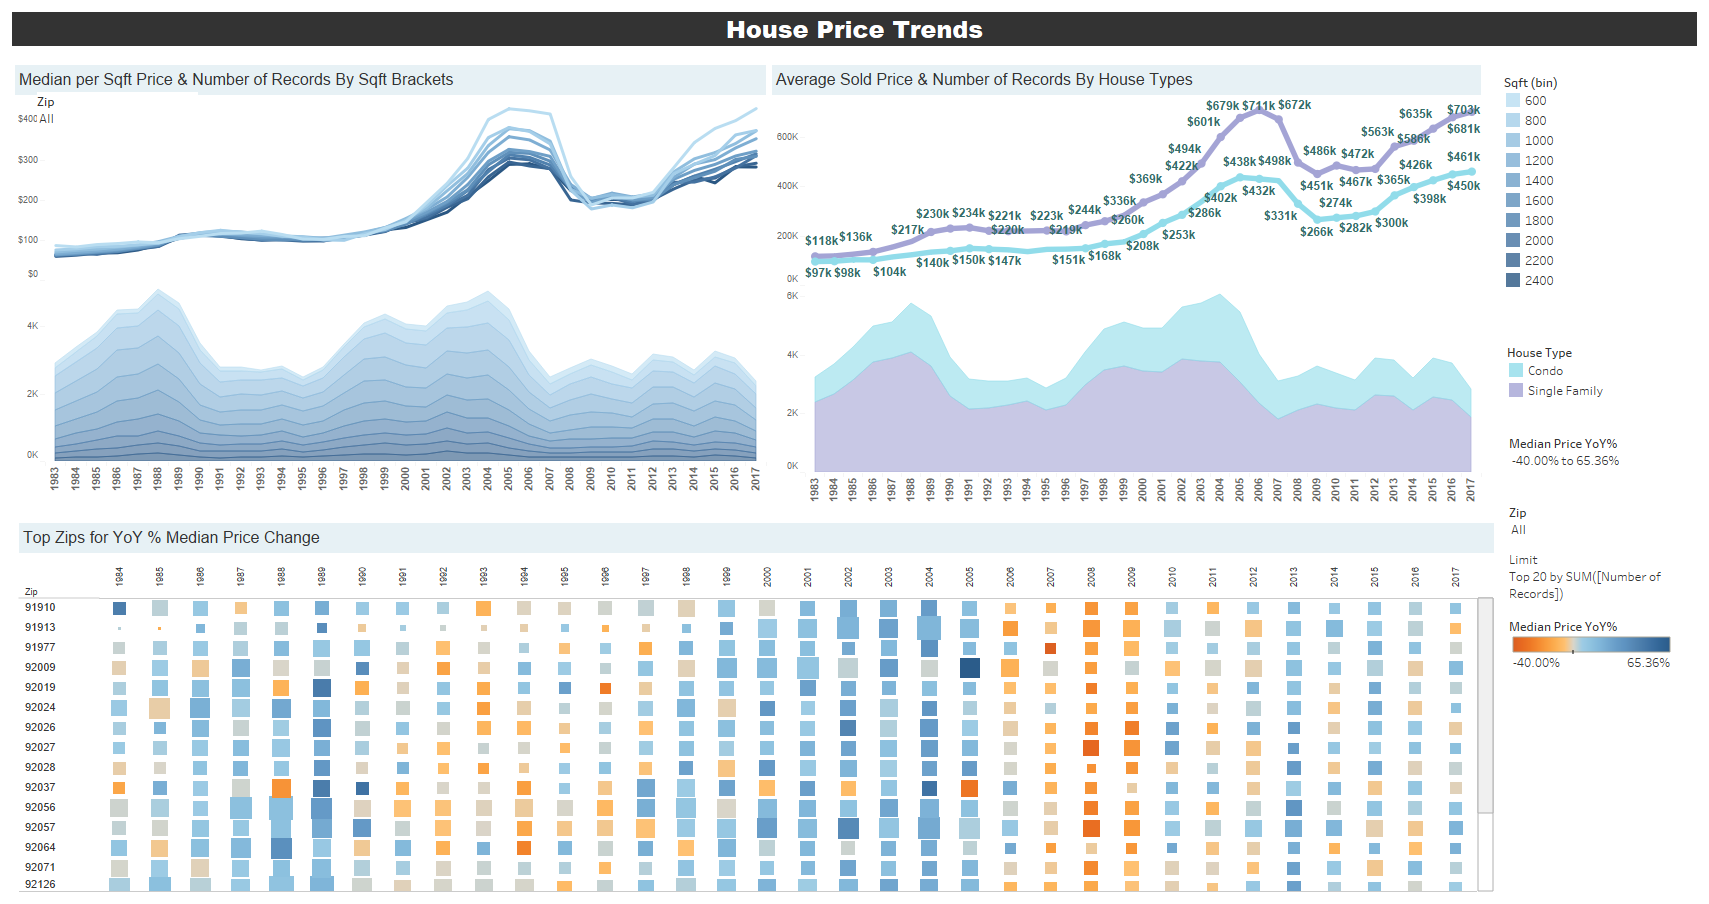

What the dashboard file says about the page in this screenshot:
{"tool":"tableau","page":{"name":"Dashboard 3","canvas":[1000,1000],"units":"permille","ordinal":1},"visuals":[{"type":"title","box":[4.7,8.8,990.6,46.5]},{"type":"worksheet","title":"stream_sqft","mark":"Area","rows":["sqft_price","Number of Records"],"cols":["date"],"box":[6.5,67.4,444.1,491.3]},{"type":"worksheet","title":"housetype","mark":"Line","rows":["sold_price","Number of Records"],"cols":["date"],"box":[449.4,67.4,419.3,504.1]},{"type":"filter","title":"housetype","param":"[federated.1k7wuoq0t5ub6q183kvkb0c32lxh].[none:zip:ok]","box":[876.8,67.4,96.3,105.7]},{"type":"legend","title":"stream_sqft","param":"[federated.1k7wuoq0t5ub6q183kvkb0c32lxh].[none:Sqft (bin):ok]","box":[877.4,140.5,79.7,278.8]},{"type":"legend","title":"housetype","param":"[federated.1k7wuoq0t5ub6q183kvkb0c32lxh].[House Type]","box":[877.4,415.8,82.8,89.4]},{"type":"legend","title":"heat_timeline","param":"[federated.1k7wuoq0t5ub6q183kvkb0c32lxh].[usr:Calculation1:qk]","box":[874.9,495.9,109.1,102.2]},{"type":"worksheet","title":"heat_timeline","mark":"Automatic","rows":["zip"],"cols":["date"],"box":[4.2,563.3,861.5,421.6]},{"type":"filter","title":"heat_timeline","param":"[federated.1k7wuoq0t5ub6q183kvkb0c32lxh].[sum:Number of Records:qk]","box":[876.8,583,101.2,84.8]},{"type":"filter","title":"heat_timeline","param":"[federated.1k7wuoq0t5ub6q183kvkb0c32lxh].[usr:Calculation1:qk]","box":[878,666.7,101.2,84.8]},{"type":"filter","title":"heat_timeline","param":"[federated.1k7wuoq0t5ub6q183kvkb0c32lxh].[none:zip:ok]","box":[879.2,756.1,101.2,177.7]},{"type":"filter","title":"housetype","param":"[federated.1k7wuoq0t5ub6q183kvkb0c32lxh].[yr:date:ok]","box":[881.7,936.1,98.7,59.2]}]}

Visuals, with their boxes on the dashboard's canvas, which has no fixed pixel size, in thousandths of its width and height (x1, y1, x2, y2). These are canvas units, not pixel positions in the 1709x904 screenshot, which may show the page scaled, cropped or inside an application window:
title: {"x1": 5, "y1": 9, "x2": 995, "y2": 55}
"stream_sqft" worksheet (Area marks): {"x1": 6, "y1": 67, "x2": 451, "y2": 559}
"housetype" worksheet (Line marks): {"x1": 449, "y1": 67, "x2": 869, "y2": 572}
"housetype" filter: {"x1": 877, "y1": 67, "x2": 973, "y2": 173}
"stream_sqft" legend: {"x1": 877, "y1": 140, "x2": 957, "y2": 419}
"housetype" legend: {"x1": 877, "y1": 416, "x2": 960, "y2": 505}
"heat_timeline" legend: {"x1": 875, "y1": 496, "x2": 984, "y2": 598}
"heat_timeline" worksheet: {"x1": 4, "y1": 563, "x2": 866, "y2": 985}
"heat_timeline" filter: {"x1": 877, "y1": 583, "x2": 978, "y2": 668}
"heat_timeline" filter: {"x1": 878, "y1": 667, "x2": 979, "y2": 752}
"heat_timeline" filter: {"x1": 879, "y1": 756, "x2": 980, "y2": 934}
"housetype" filter: {"x1": 882, "y1": 936, "x2": 980, "y2": 995}
